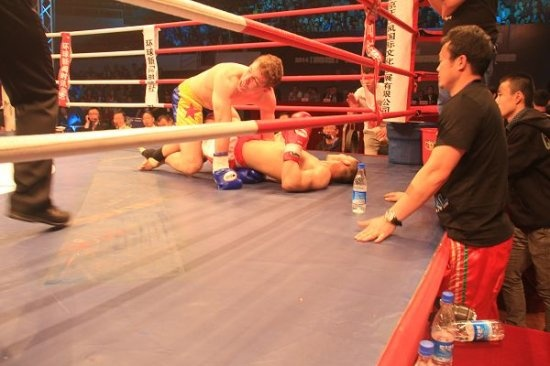falling: (230, 90, 364, 193)
